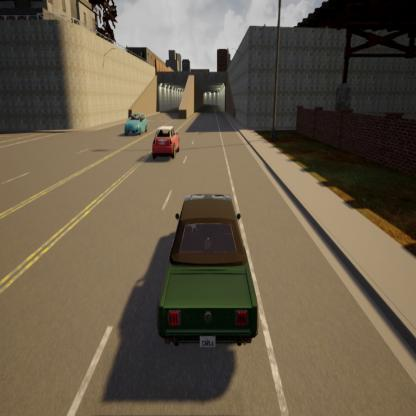Cars: (158, 193, 260, 349), (152, 127, 181, 161), (124, 111, 146, 135)
